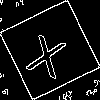X: (25, 25, 71, 79)
